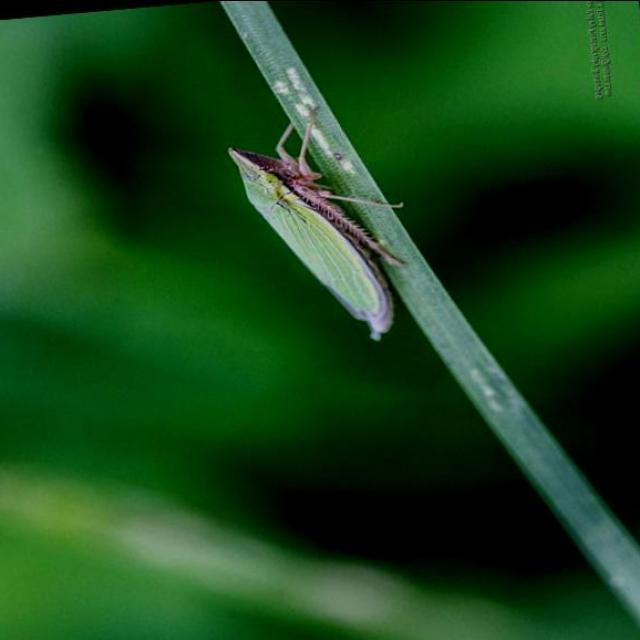green leaf hopper: (228, 110, 403, 338)
